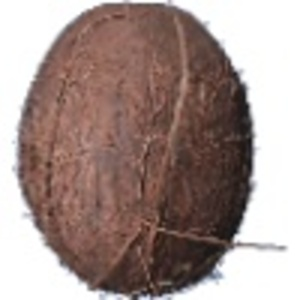coco: (13, 1, 272, 300)
